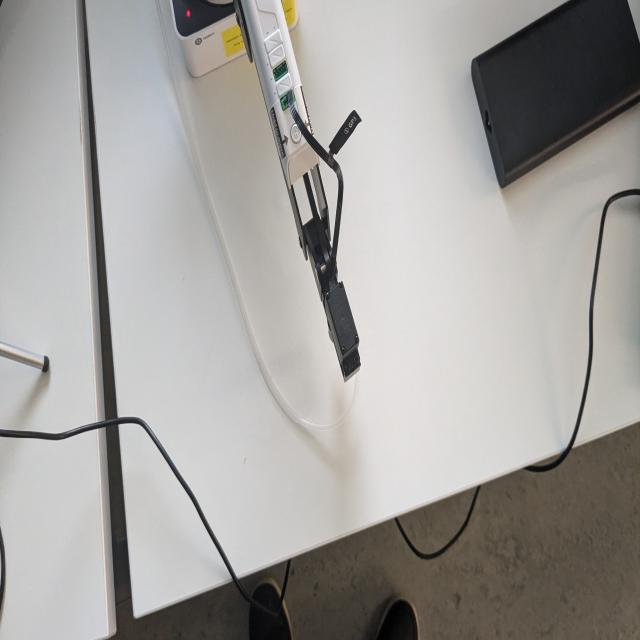Robot-end-effector-HF8z: (322, 277, 362, 383)
